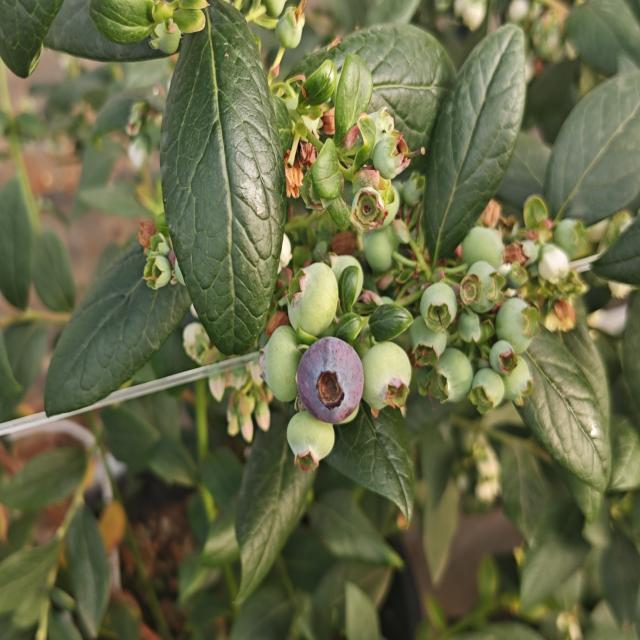ripe: (297, 329, 366, 427)
